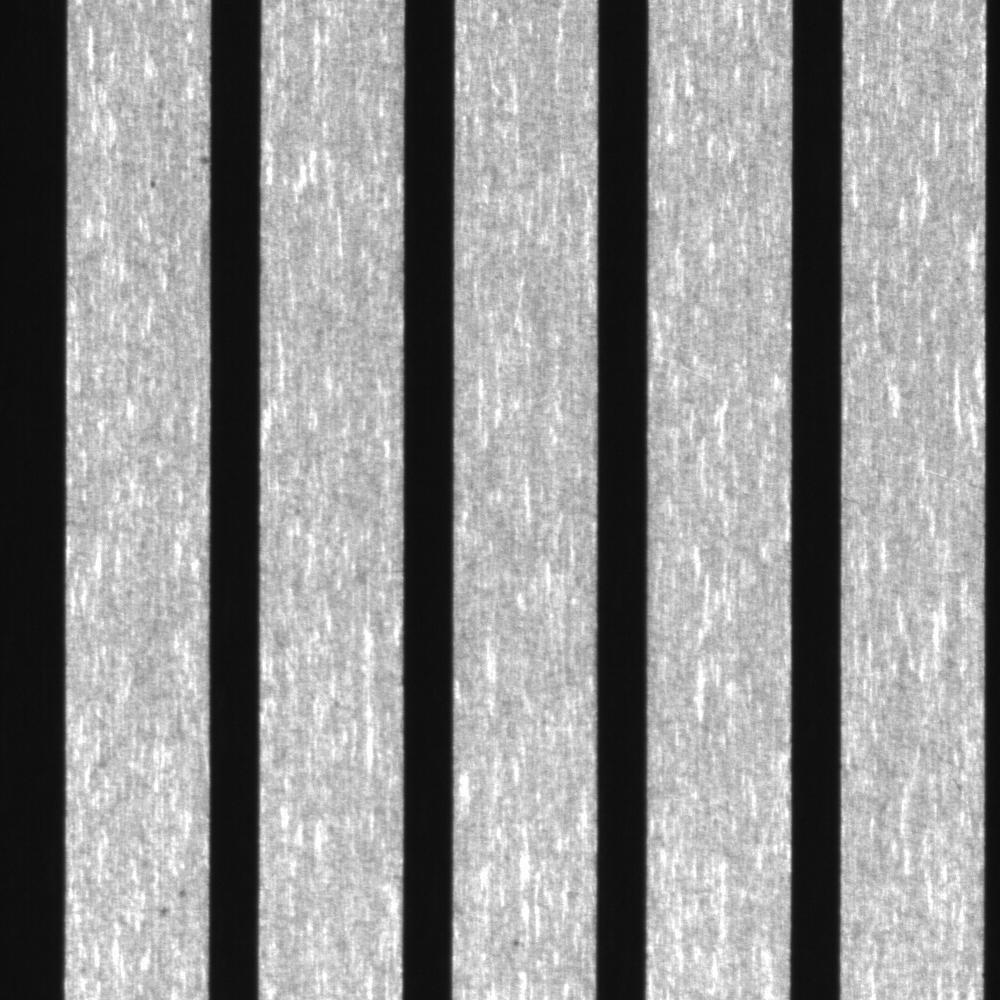Etching: (147, 879, 202, 933)
Pinhole: (500, 920, 538, 963), (135, 165, 165, 199)
Scar: (852, 434, 985, 495), (648, 338, 737, 397)
